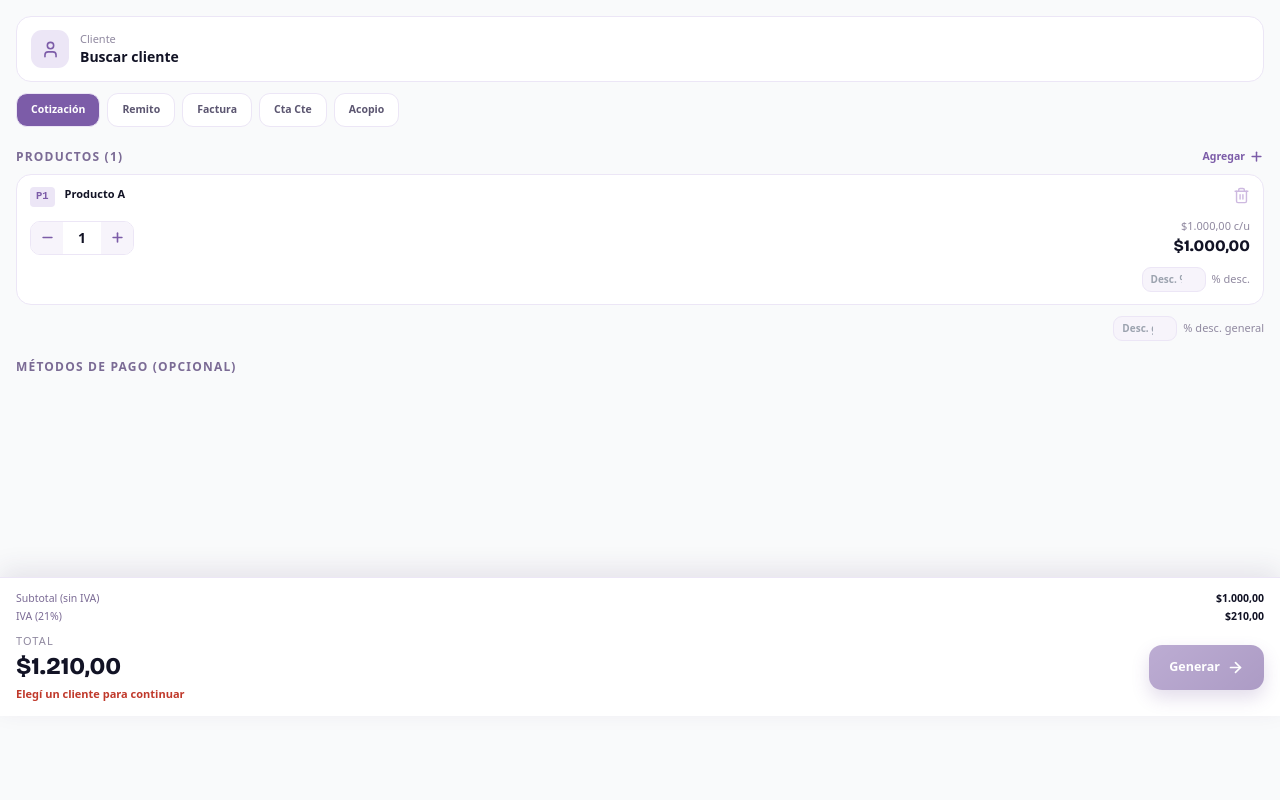
Test: MobileSales — cart item lifecycle (UI) › editing a line's discount input updates the rendered totals bar
Type "10" into the number field named "descuento de producto a" at point(1174, 280), box 1142,267 -> 1206,292
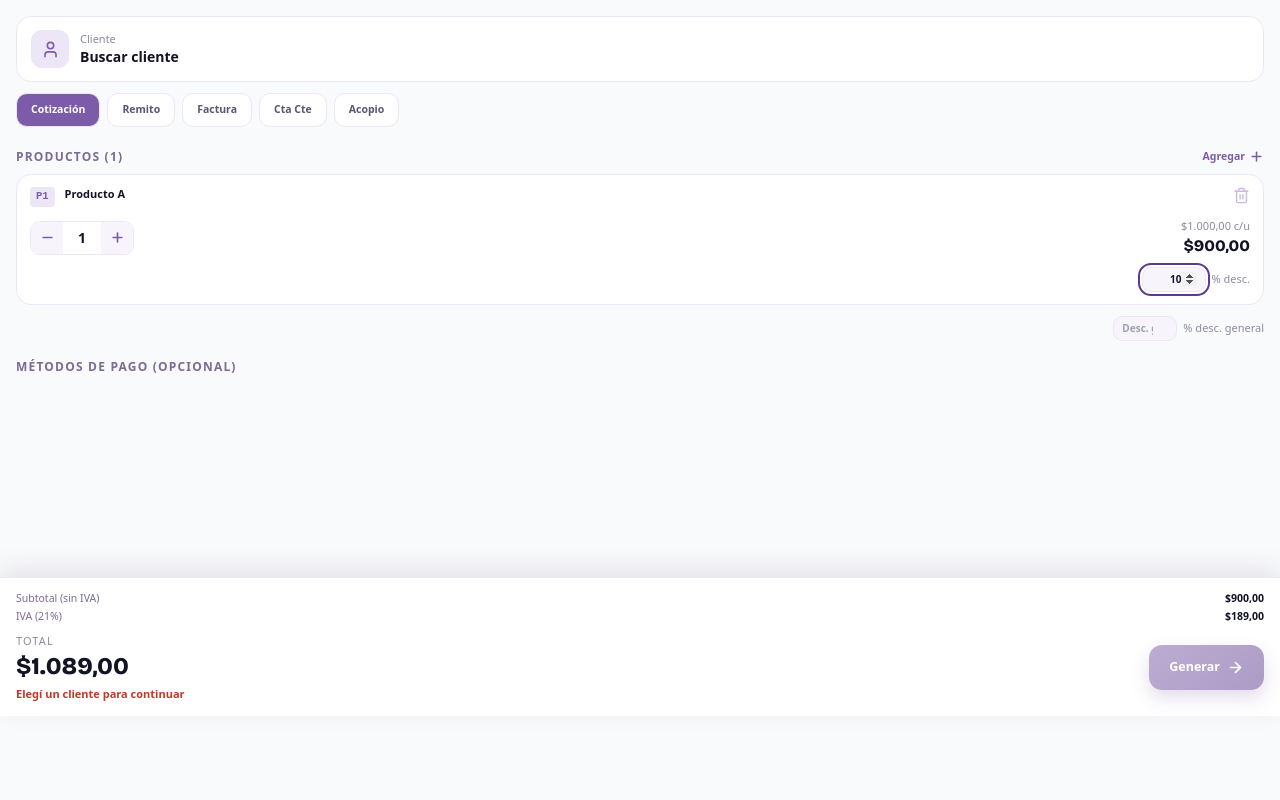
Check: the text "$900,00" in the row of "Subtotal (sin IVA)" is shown, box 1225,590 -> 1264,604
Check: the text "$189,00" is shown, box 1225,609 -> 1264,625
Check: the text "$1.089,00" is shown, box 16,652 -> 129,680
